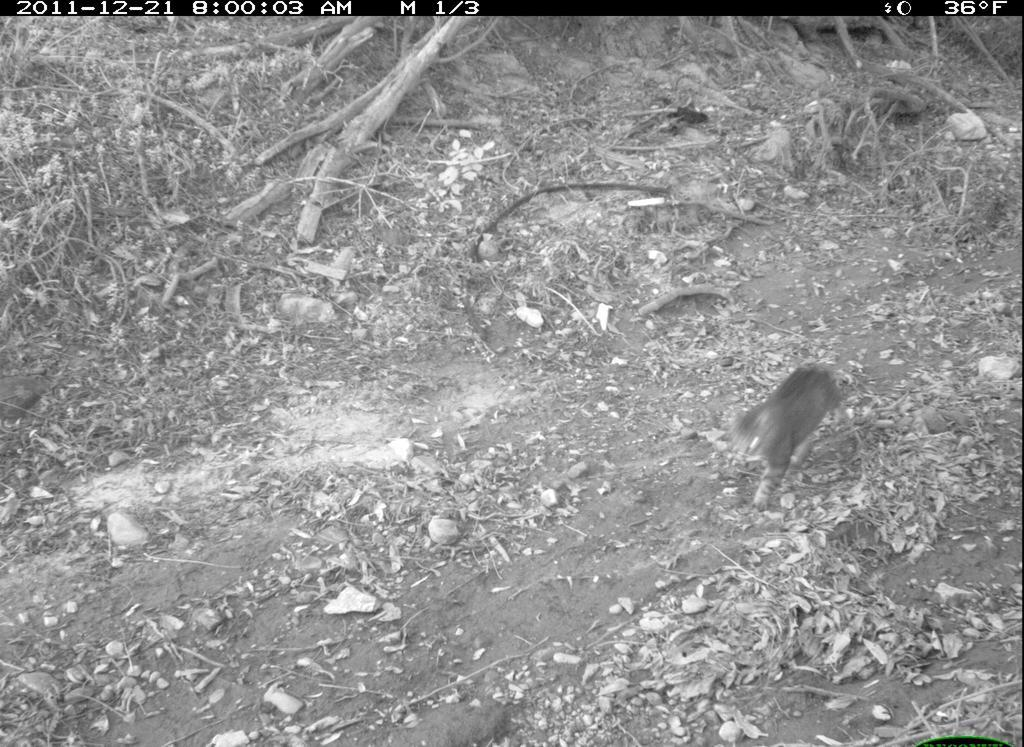cat: (721, 359, 852, 518)
